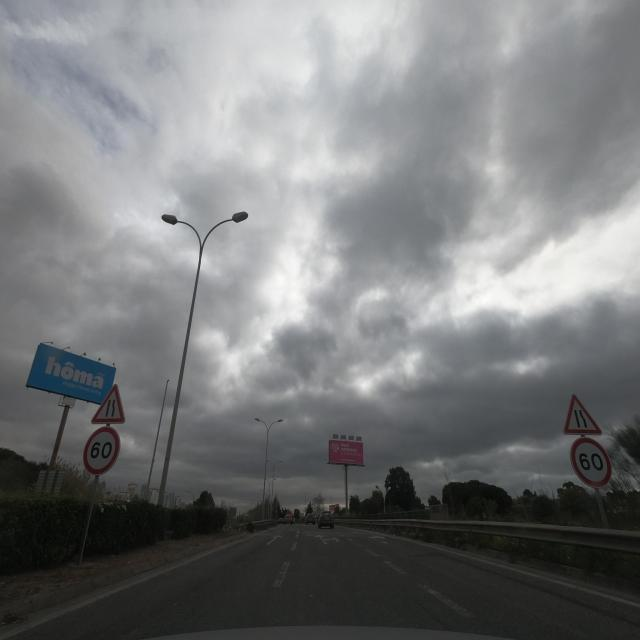car: (317, 510, 335, 530)
